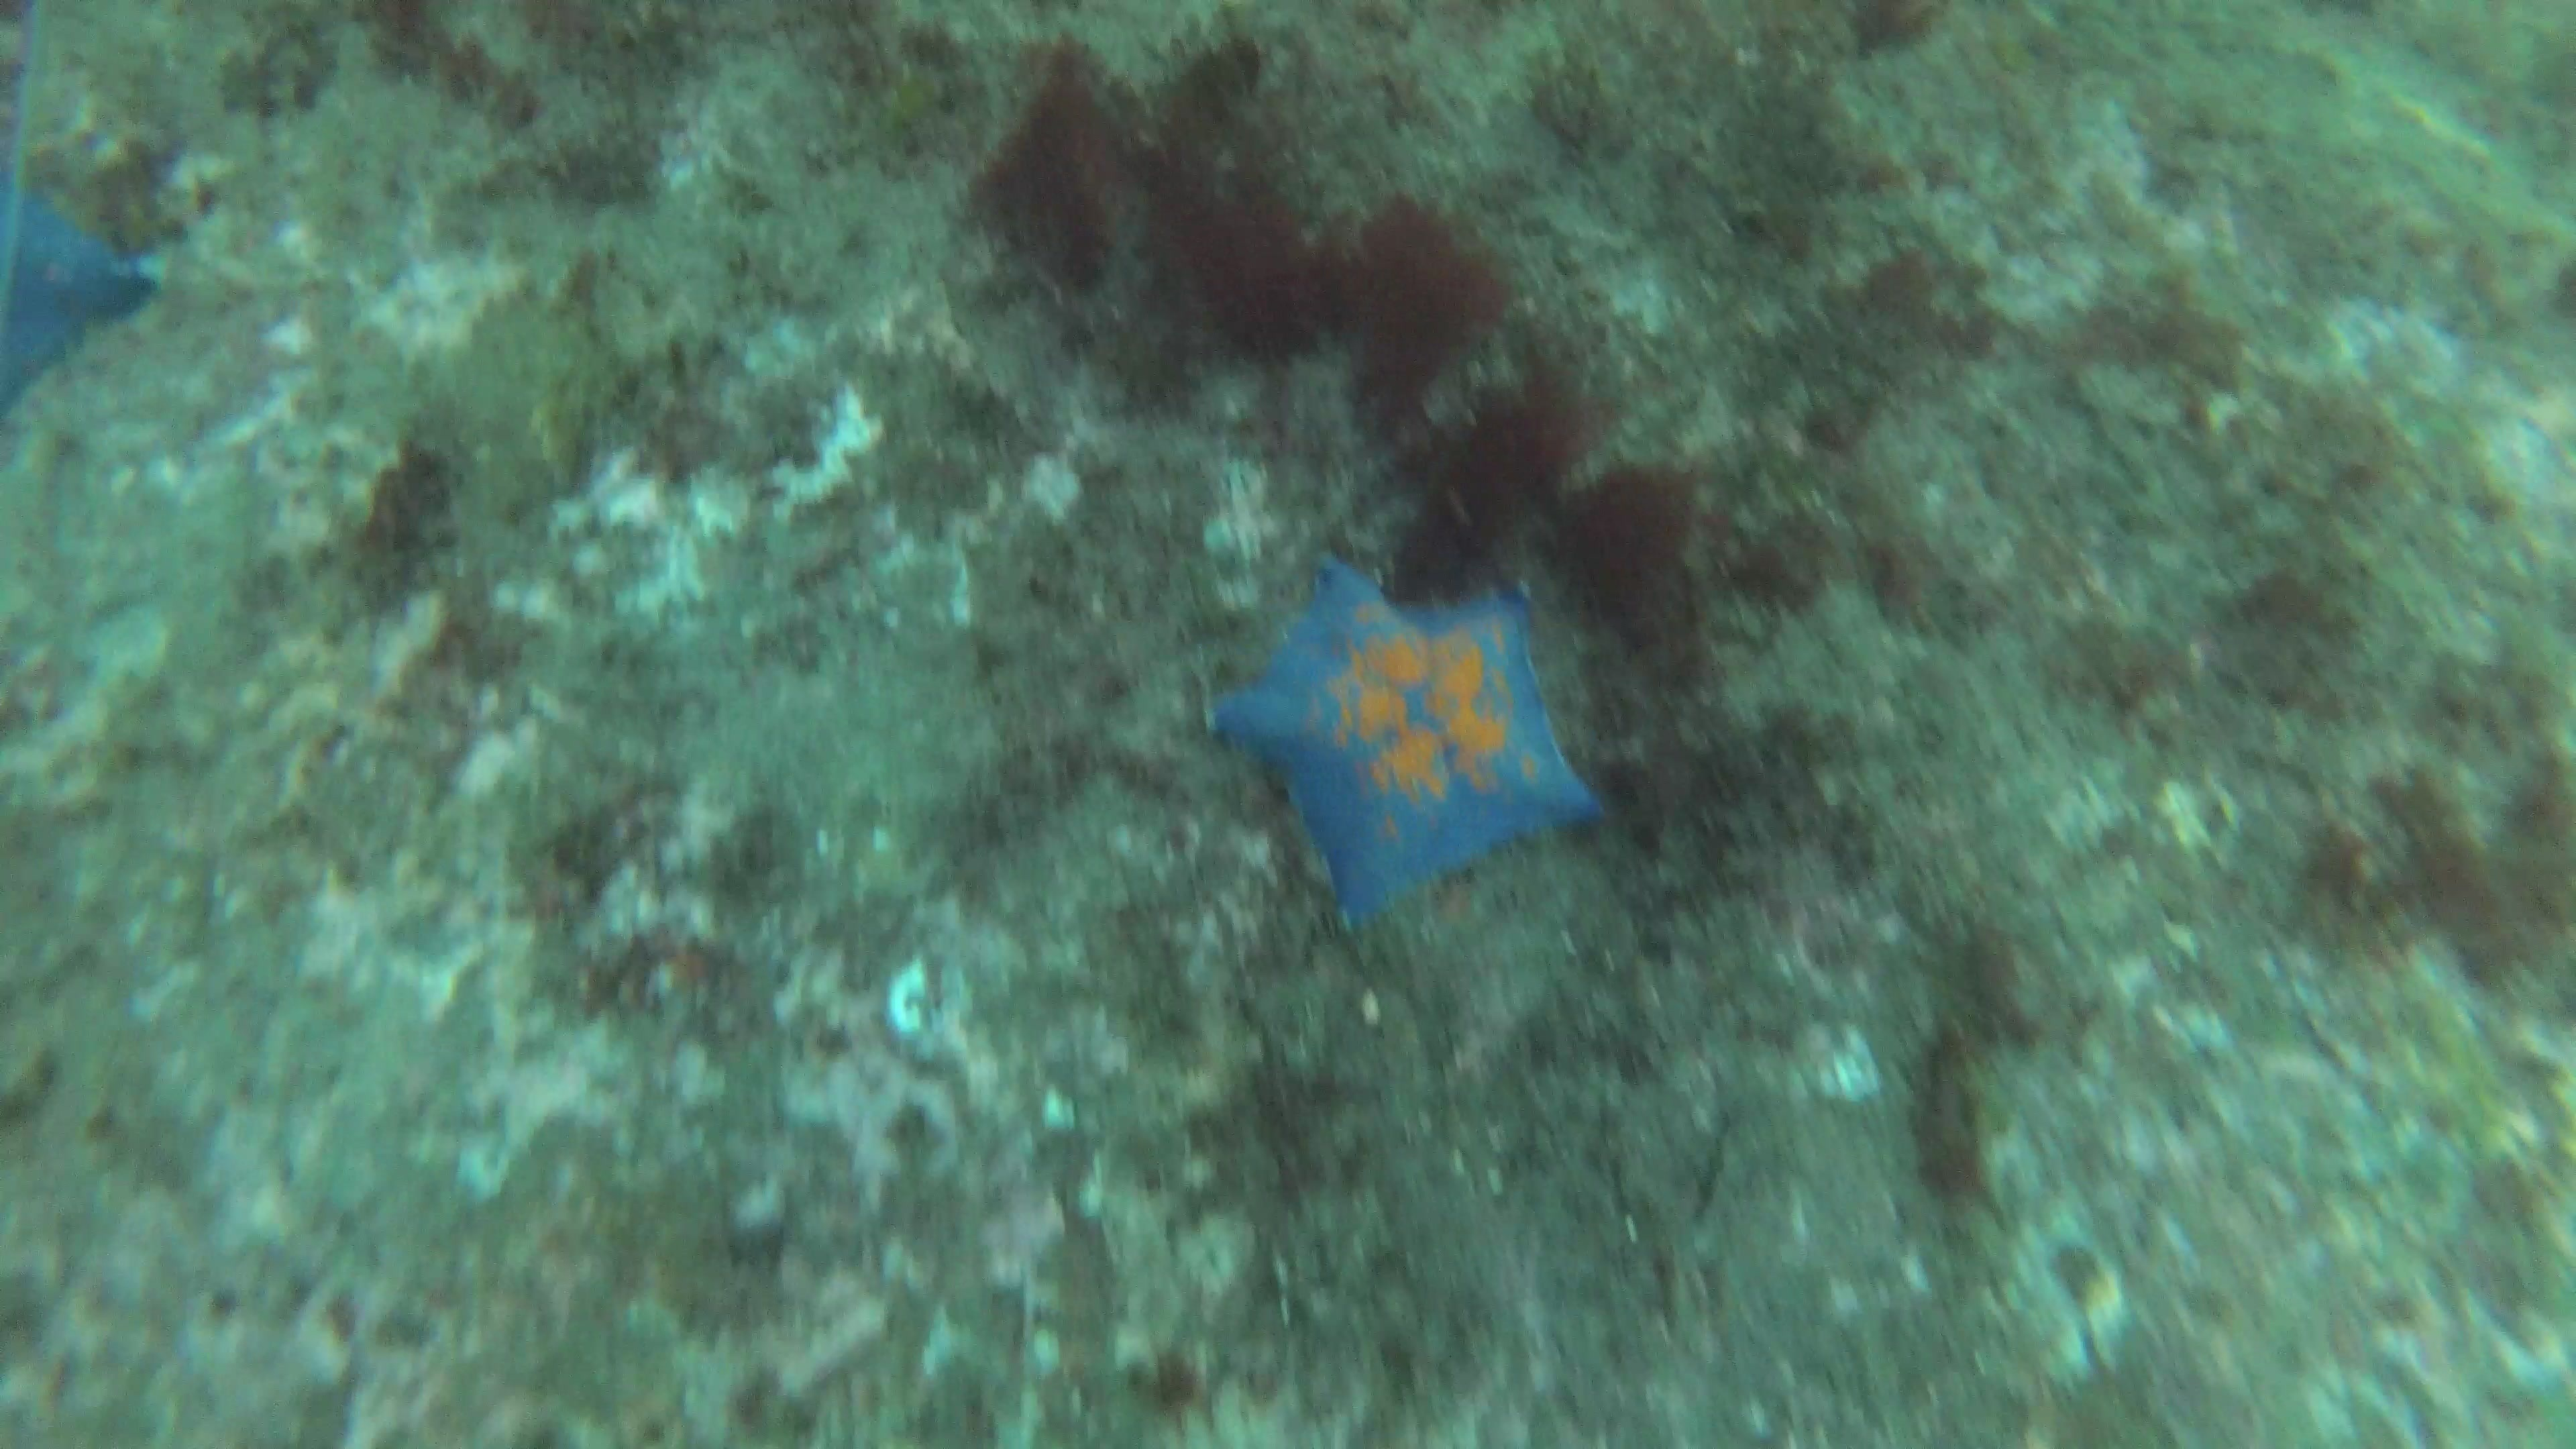starfish: (1200, 556, 1612, 939), (0, 161, 172, 426)
